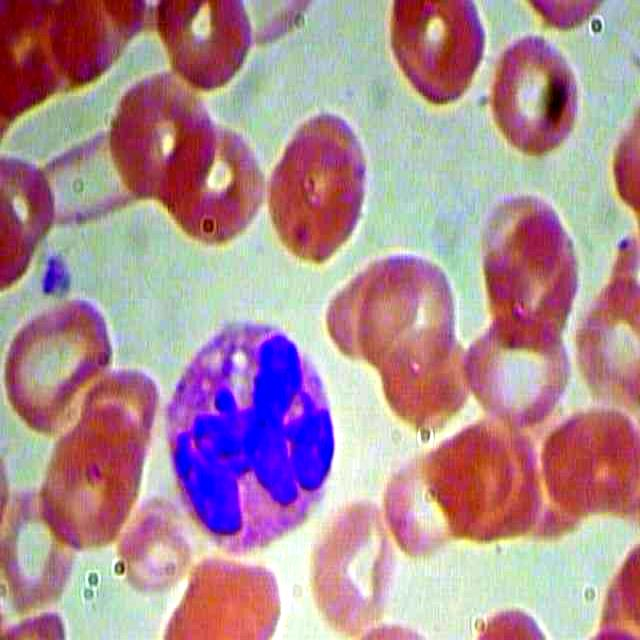RBC: (259, 105, 383, 264), (2, 294, 129, 442), (348, 249, 464, 388), (462, 296, 578, 435), (102, 63, 218, 201), (481, 32, 592, 164), (308, 497, 402, 640), (381, 1, 488, 116), (159, 552, 291, 637), (1, 476, 84, 605), (154, 1, 256, 91)
WBC: (149, 311, 354, 564)
